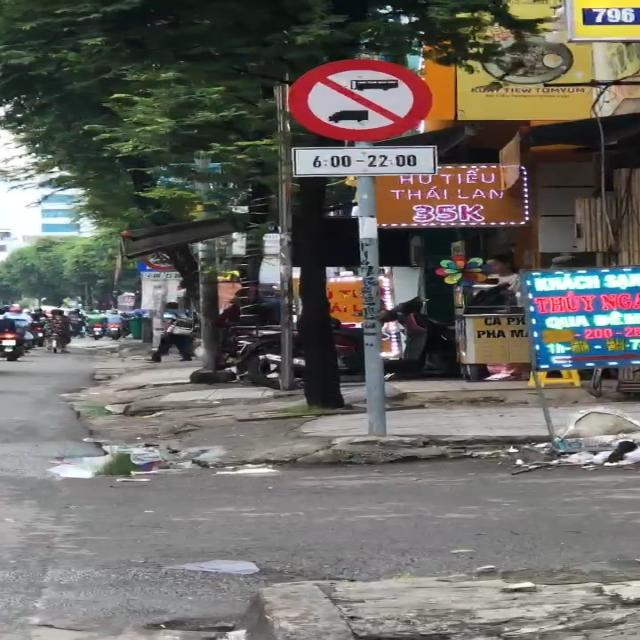Bien bao cam xe oto khach va xe oto tai: (278, 52, 438, 142)
